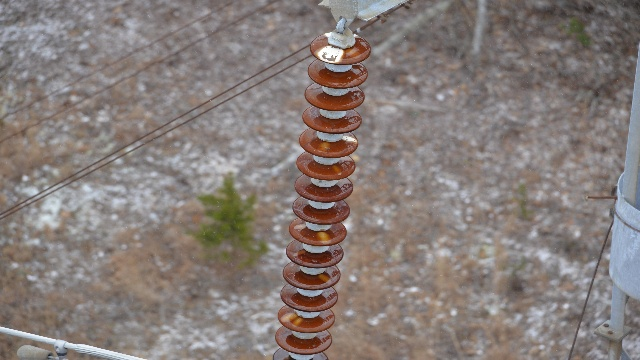insulator_unspecified: (271, 32, 370, 359)
pollution_flashover_local: (317, 46, 343, 64), (280, 308, 302, 329), (317, 227, 330, 244), (318, 138, 330, 153), (341, 134, 358, 143), (318, 272, 333, 282), (295, 222, 307, 232)
